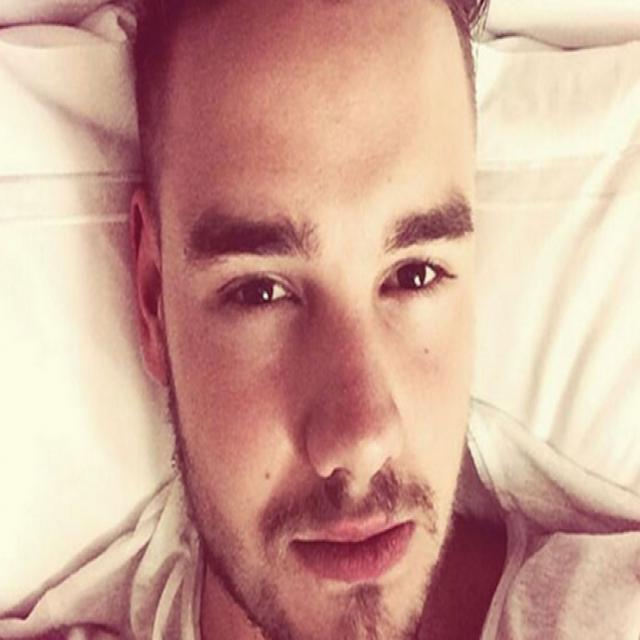earlobe: (130, 188, 170, 389)
